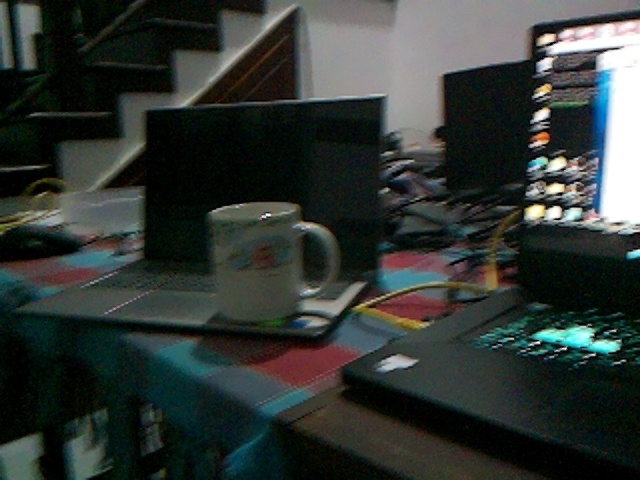mug: (205, 199, 340, 323)
